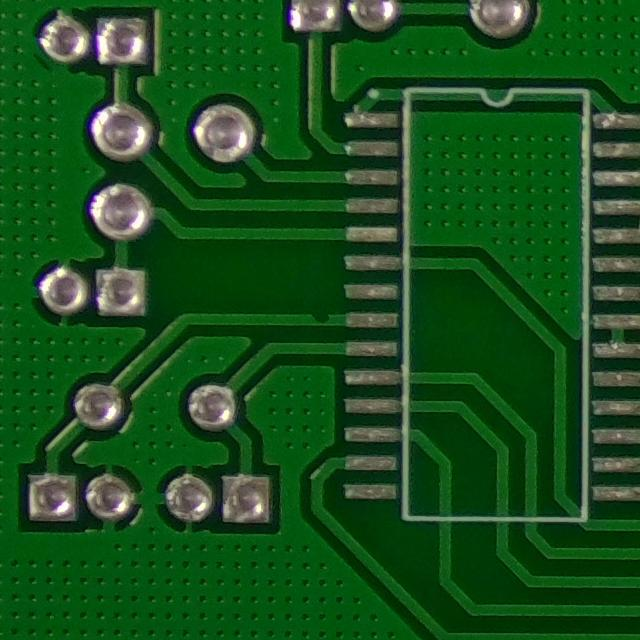mouse_bite: (303, 305, 337, 336)
